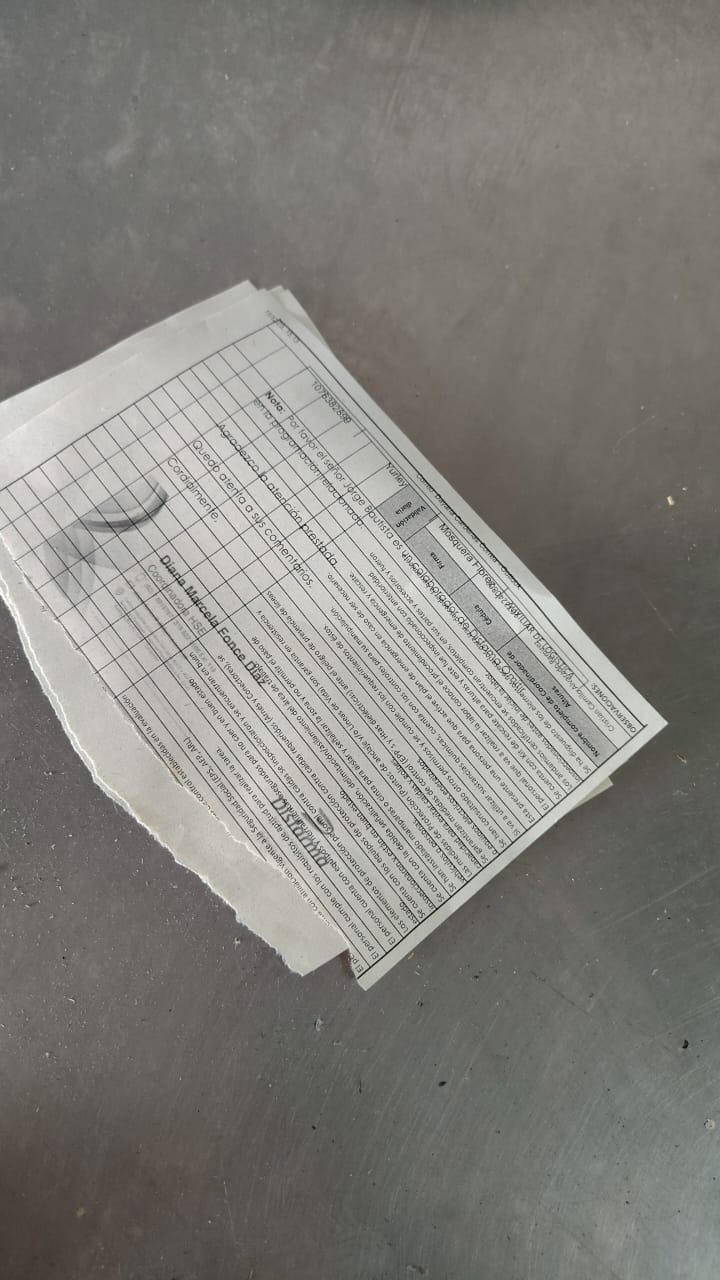Papel: (0, 277, 668, 993)
